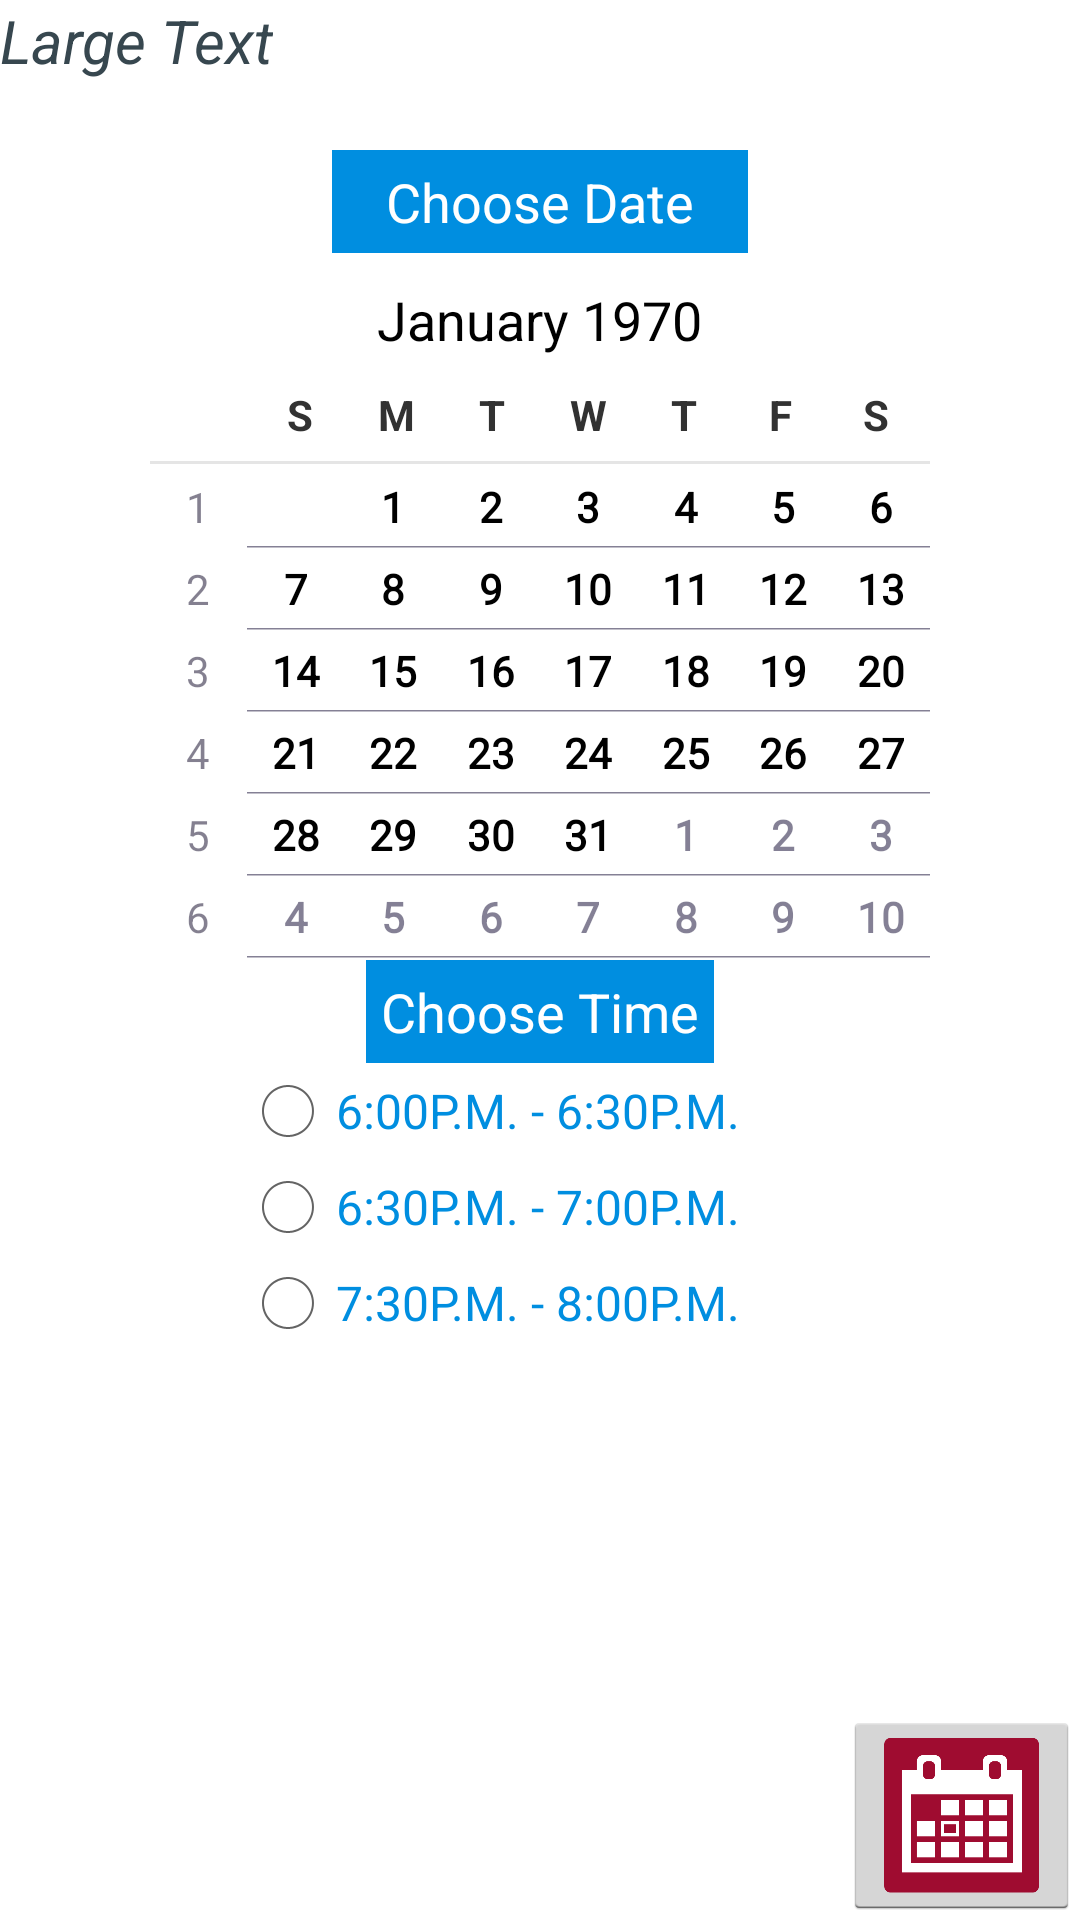

Named icons in this screenshot (1080 × 1920) and their bounding boxes, (x1, y1, x2, y2):
appointment: (855, 1724, 1068, 1909)
